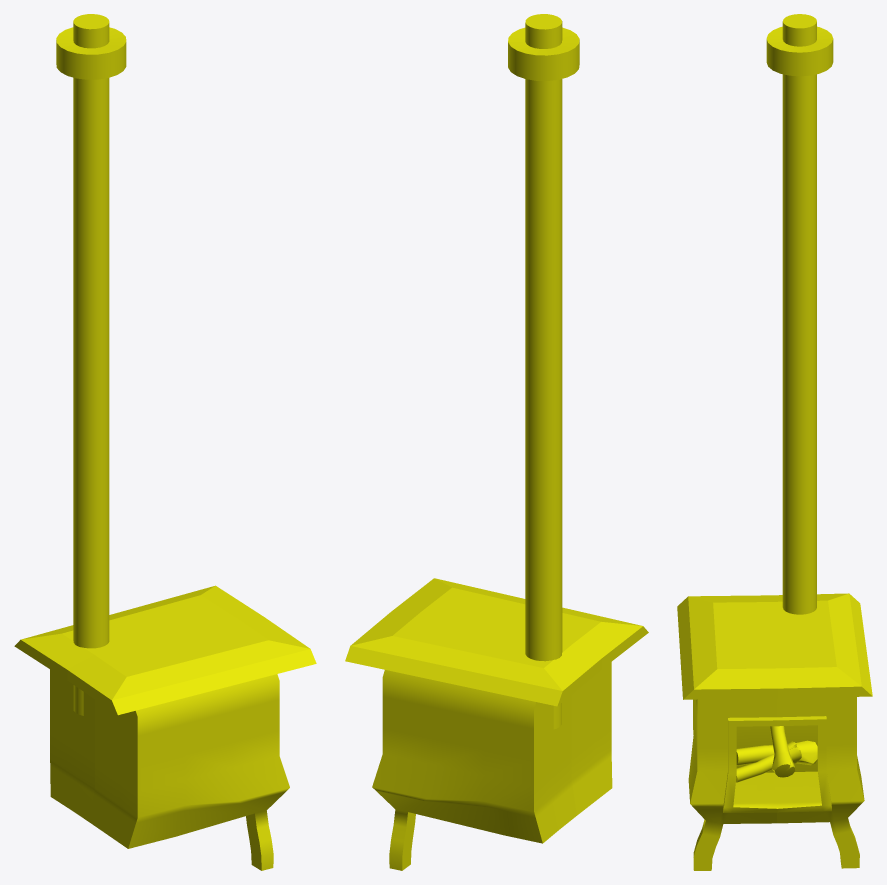
The model's file is obj_woodstove_uvs.fbx.
3 views of the same model, side by side, from view 1: azimuth 30°, elevation 25°; view 2: azimuth 150°, elevation 25°; view 3: azimuth 270°, elevation 25° (orthographic). The views are drawn at different scales.
Visible parts, largest first — view 1: obj_woodstove_uvs; view 2: obj_woodstove_uvs; view 3: obj_woodstove_uvs.
Boxes of the visible parts, <box> form: obj_woodstove_uvs: <box>14,14,316,870</box>; obj_woodstove_uvs: <box>345,14,648,870</box>; obj_woodstove_uvs: <box>677,14,872,870</box>.
Bounding box in the file's own units: 1.84 × 7.05 × 1.58.
